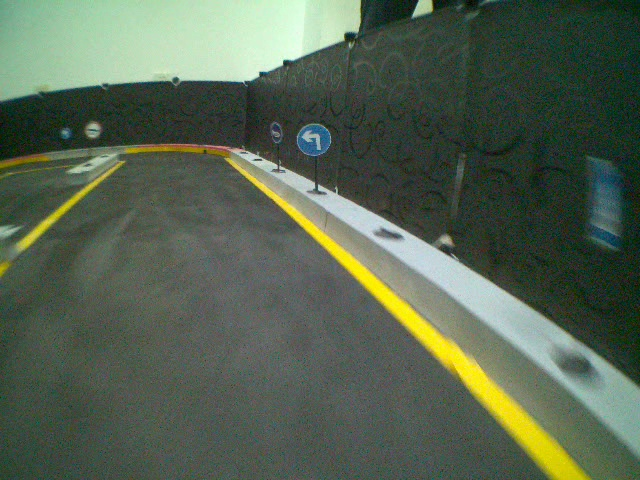Check: (83, 118, 103, 141)
horn: (266, 120, 287, 143)
turn: (295, 121, 333, 160)
